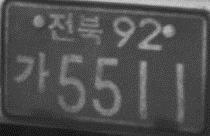1: (137, 57, 151, 123), (173, 60, 186, 125)
2: (138, 16, 162, 51)
5: (93, 54, 123, 119), (56, 51, 86, 114)
9: (112, 15, 136, 49)
가: (14, 50, 50, 96)
전북_O: (46, 11, 104, 46)
